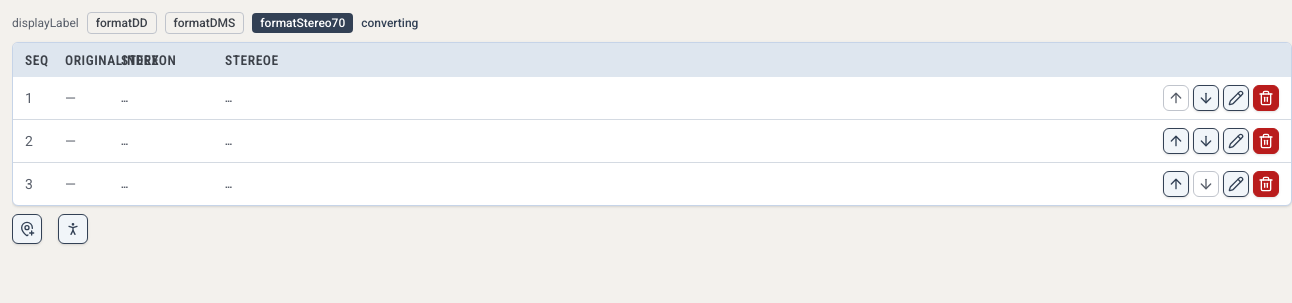
Test case: the Street View toggle › off: its icon, not pressed, the name and tooltip saying what a press does
The image size is (1292, 303).
Hover over the button named "showStreetView": (73, 229) [58,214,88,244]
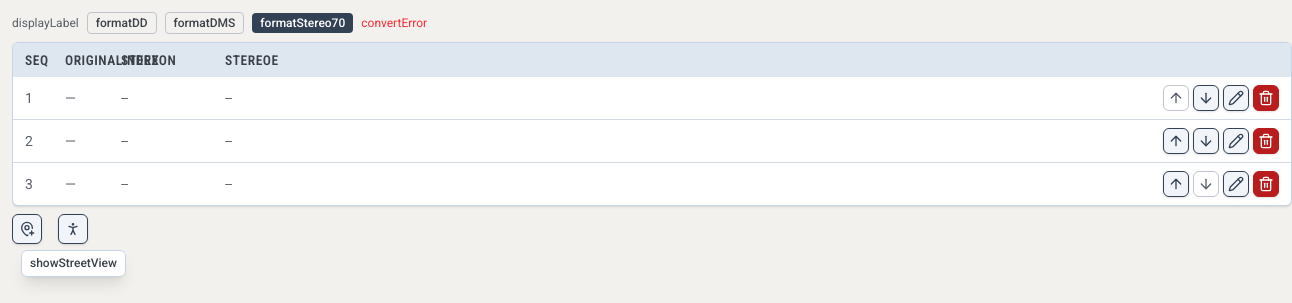
Check: the tooltip reads "showStreetView", box [30,256,117,270]
